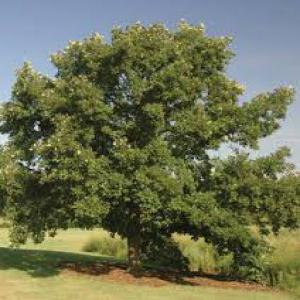Tree: (1, 15, 296, 275)
